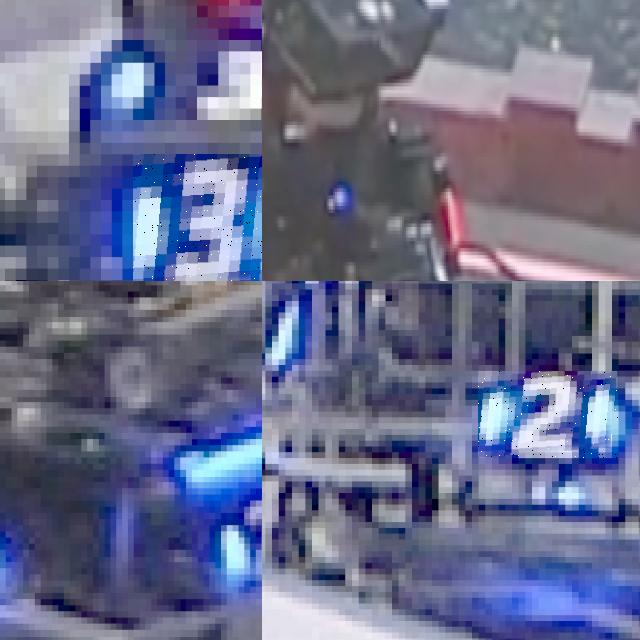B2: (478, 371, 618, 458), (215, 494, 262, 580)
B3: (133, 154, 262, 281)
